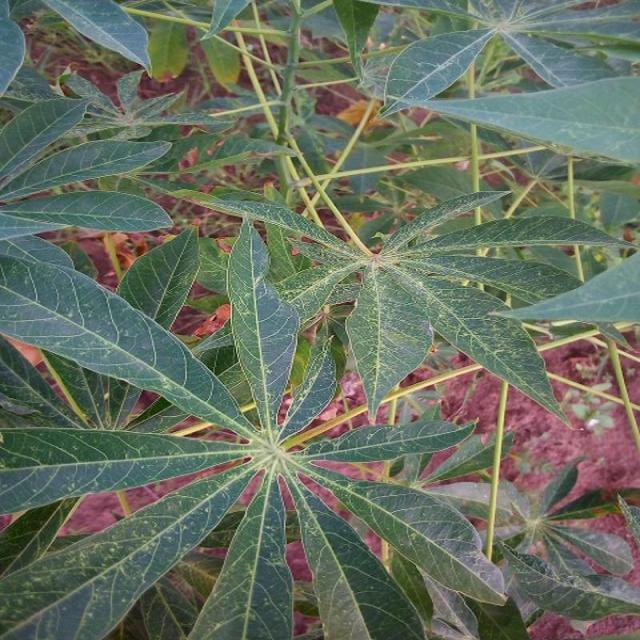cassava leaf: (0, 1, 638, 638), (225, 213, 299, 429)
